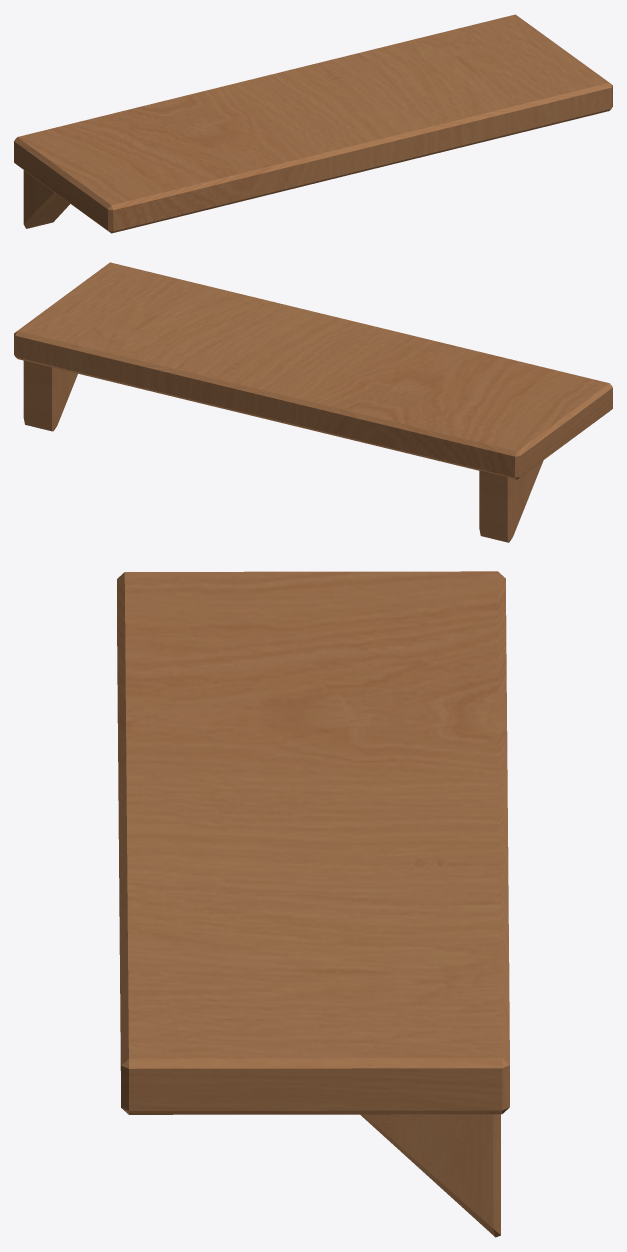
Rendered from Shelf.fbx.
3 renders of one model, top to bottom at view 1: azimuth 30°, elevation 25°; view 2: azimuth 150°, elevation 25°; view 3: azimuth 270°, elevation 25°, orthographic. The views are drawn at different scales.
Parts seen in each view (by area): view 1: Shelf; view 2: Shelf; view 3: Shelf.
Boxes of the visible parts, left/top/right/bottom form: Shelf: left=14, top=14, right=612, bottom=233; Shelf: left=14, top=262, right=612, bottom=542; Shelf: left=117, top=571, right=509, bottom=1237.
Bounding box in the file's own units: 15.02 × 2.65 × 5.05.
